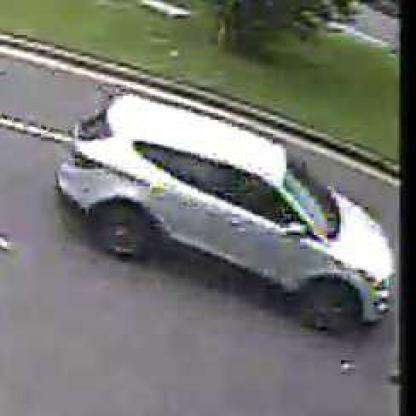car: (52, 81, 400, 344)
